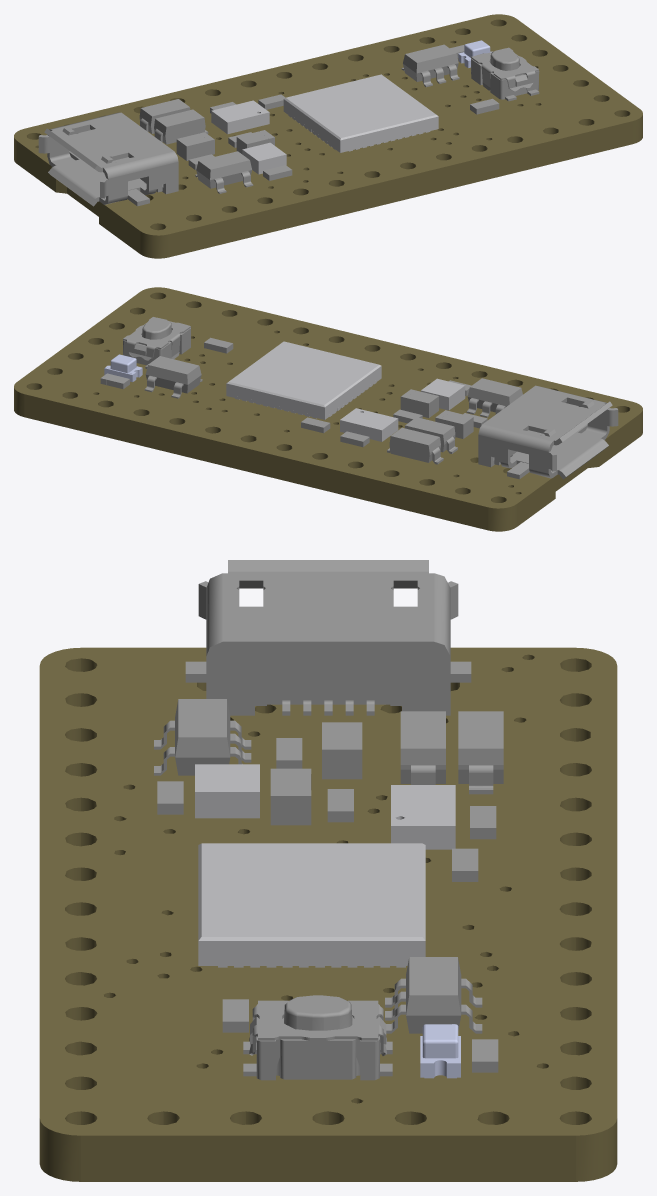
The model's file is ada-3727.glb.
The picture shows the model from 3 angles, top to bottom: view 1: azimuth 30°, elevation 25°; view 2: azimuth 150°, elevation 25°; view 3: azimuth 270°, elevation 25°; orthographic projection. The views are drawn at different scales.
Visible parts, largest first — view 1: 0.16666666666666666_0.16666666666666666_0.08333333333333333_, 0.3333333333333333_0.3333333333333333_0.3333333333333333_0, 0.5833333333333334_0.5833333333333334_0.5833333333333334_0.8, 0.5833333333333334_0.6666666666666666_0.8333333333333334_0; view 2: 0.16666666666666666_0.16666666666666666_0.08333333333333333_, 0.3333333333333333_0.3333333333333333_0.3333333333333333_0, 0.5833333333333334_0.5833333333333334_0.5833333333333334_0.8, 0.5833333333333334_0.6666666666666666_0.8333333333333334_0; view 3: 0.16666666666666666_0.16666666666666666_0.08333333333333333_, 0.3333333333333333_0.3333333333333333_0.3333333333333333_0, 0.5833333333333334_0.5833333333333334_0.5833333333333334_0.8, 0.5833333333333334_0.6666666666666666_0.8333333333333334_0.
Part boxes in pixels (box(x1,y1,x2,y2)): 0.16666666666666666_0.16666666666666666_0.08333333333333333_: box(14, 14, 642, 258); 0.3333333333333333_0.3333333333333333_0.3333333333333333_0: box(38, 44, 539, 206); 0.5833333333333334_0.5833333333333334_0.5833333333333334_0.8: box(211, 74, 438, 174); 0.5833333333333334_0.6666666666666666_0.8333333333333334_0: box(458, 40, 492, 67); 0.16666666666666666_0.16666666666666666_0.08333333333333333_: box(14, 287, 642, 531); 0.3333333333333333_0.3333333333333333_0.3333333333333333_0: box(100, 317, 618, 479); 0.5833333333333334_0.5833333333333334_0.5833333333333334_0.8: box(226, 341, 465, 441); 0.5833333333333334_0.6666666666666666_0.8333333333333334_0: box(104, 354, 142, 382); 0.16666666666666666_0.16666666666666666_0.08333333333333333_: box(39, 647, 617, 1181); 0.3333333333333333_0.3333333333333333_0.3333333333333333_0: box(154, 560, 503, 1080); 0.5833333333333334_0.5833333333333334_0.5833333333333334_0.8: box(195, 764, 455, 967); 0.5833333333333334_0.6666666666666666_0.8333333333333334_0: box(420, 1024, 460, 1078).
Size of the model in its own units: 3.62 by 0.4341 by 1.78.
